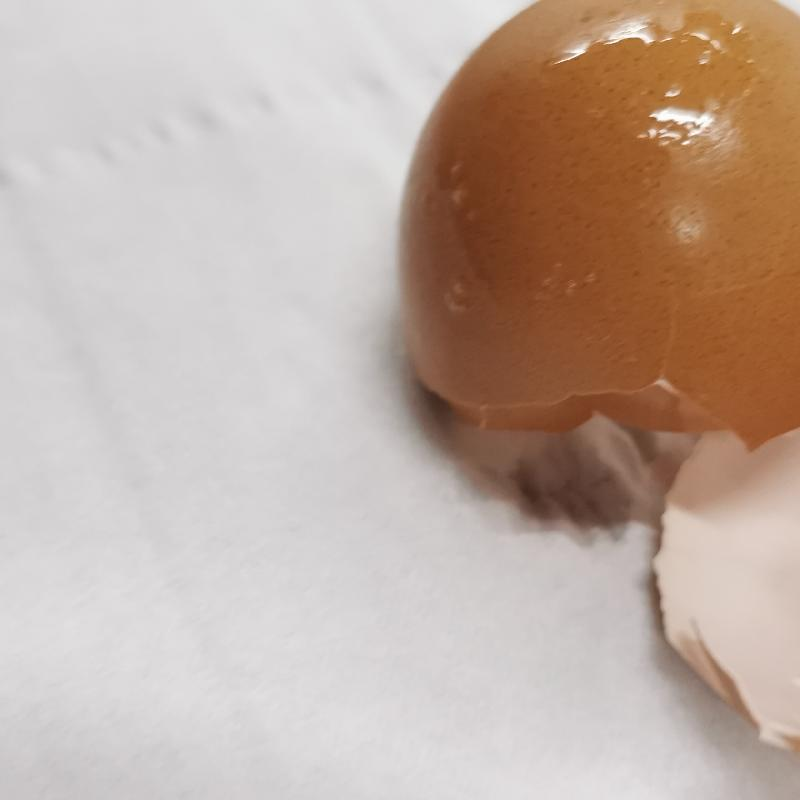eggshell: (385, 9, 800, 456)
